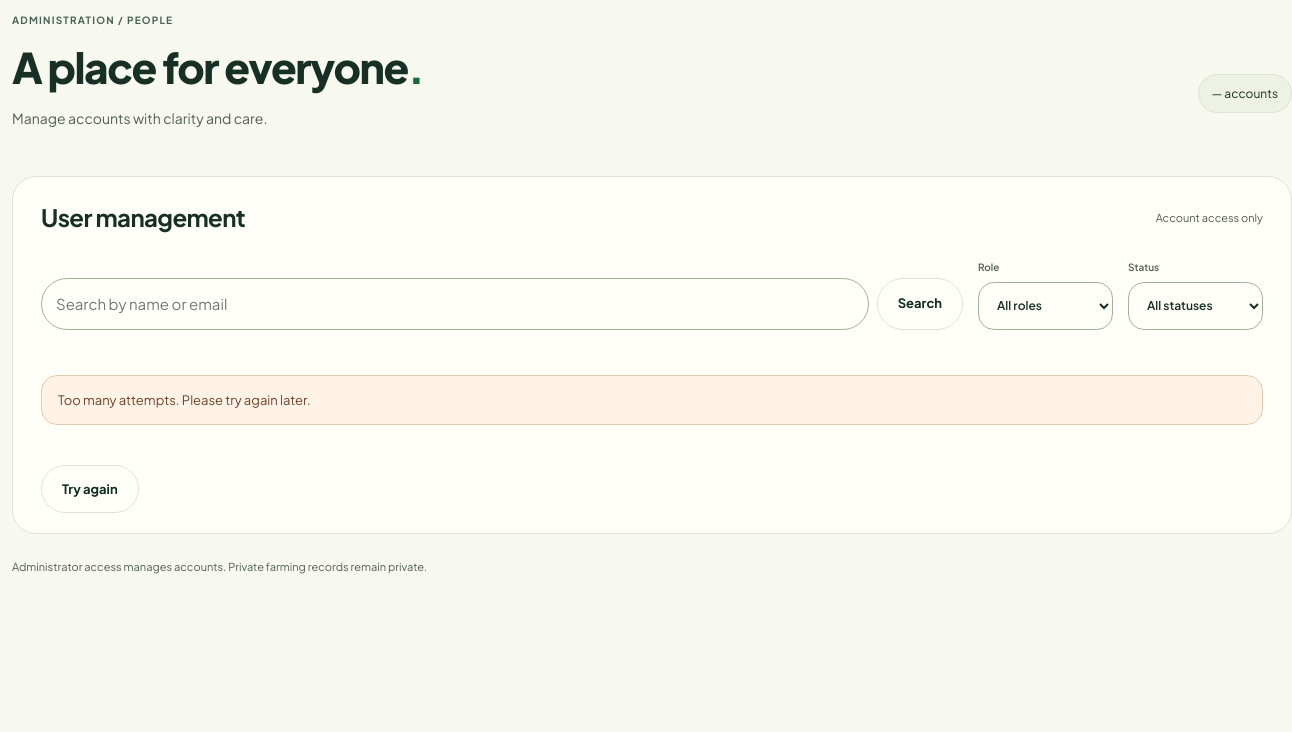
Scenario: shows a rate-limit error, supports retry, then shows the empty result
Later steps or results of the test are not shown.
Expected: the message shows "Too many attempts", [58,392,311,408]
What coordinates should you click on to do the following:
click the button "Try again"
I would click on:
 (90, 490)
Its box is [41,466,139,514].
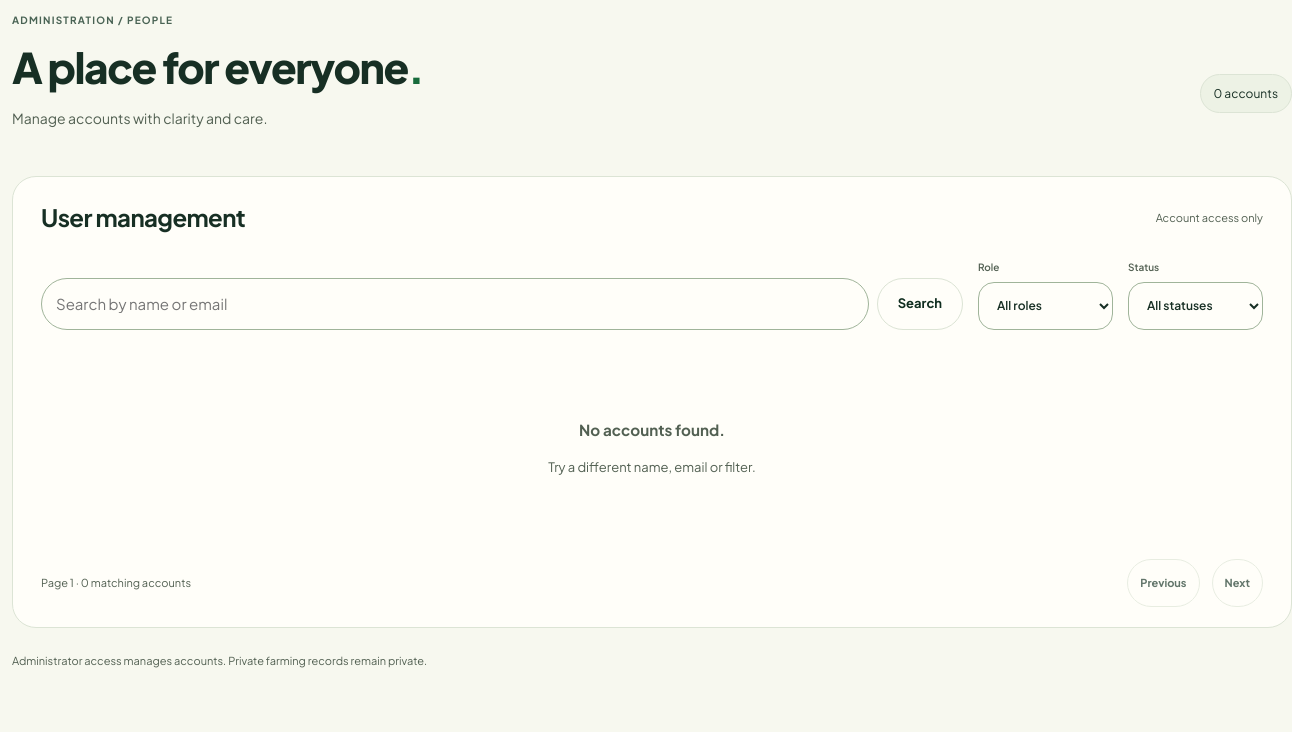
Result: the heading "No accounts found." is shown at [579,420,725,439]
